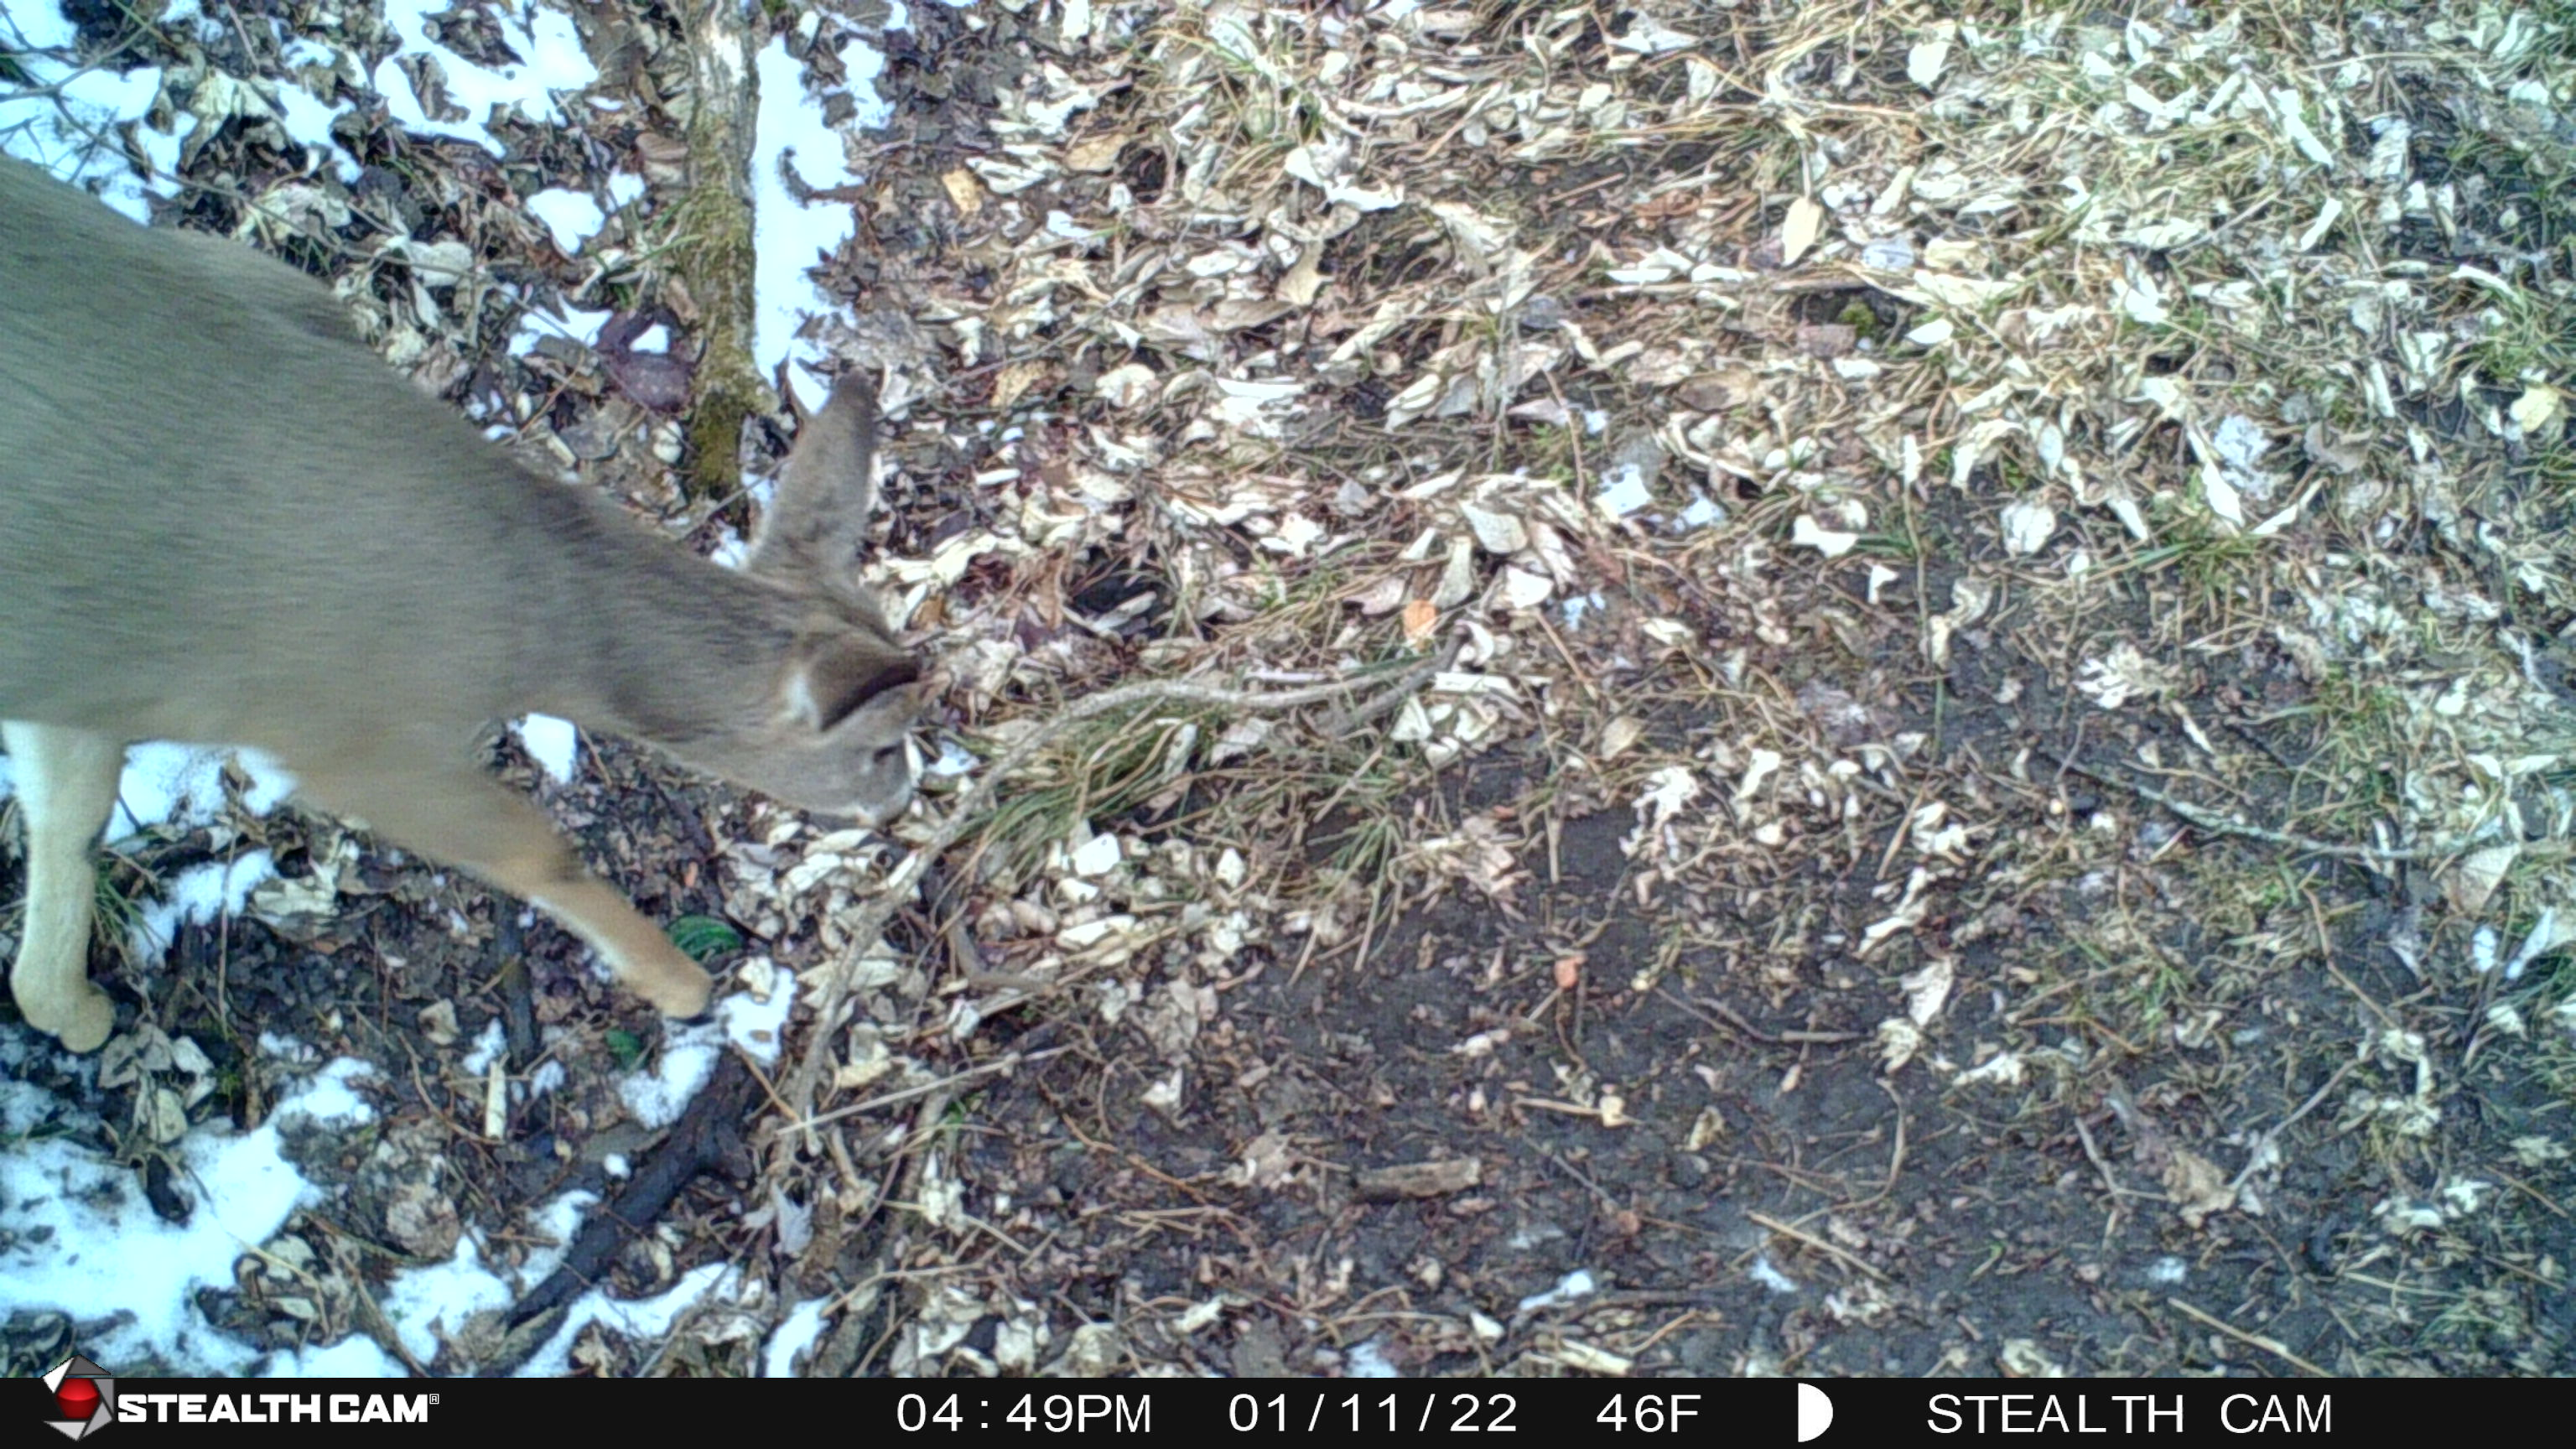DeerDoe: (0, 149, 936, 1054)
